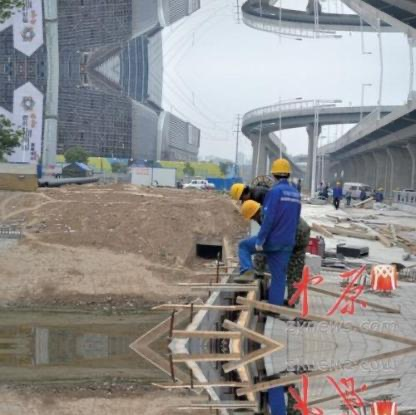Safety Helmet: (266, 153, 298, 192), (234, 197, 266, 228), (227, 176, 255, 203)
